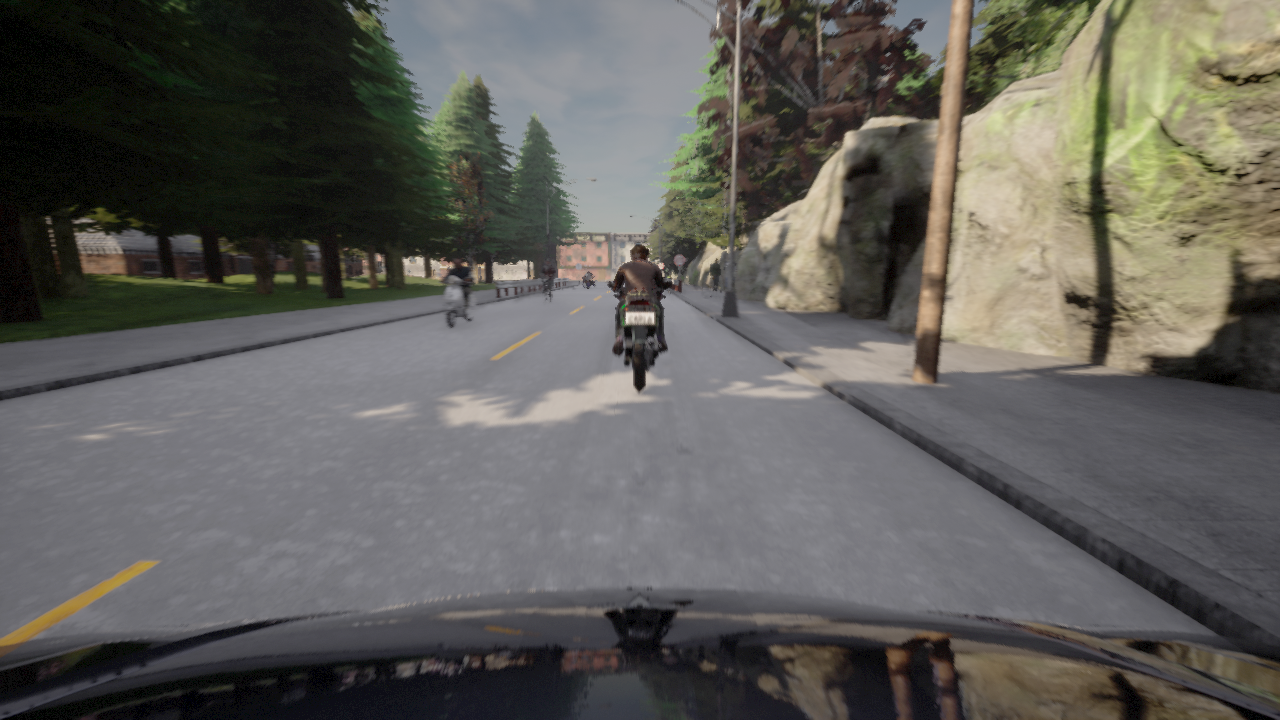cyclist: (0, 588, 1279, 719), (608, 282, 671, 391), (437, 272, 476, 328), (581, 275, 598, 288), (583, 274, 593, 288), (543, 279, 549, 301), (654, 289, 655, 292)
pedestrian: (722, 261, 738, 289), (711, 257, 722, 296)
